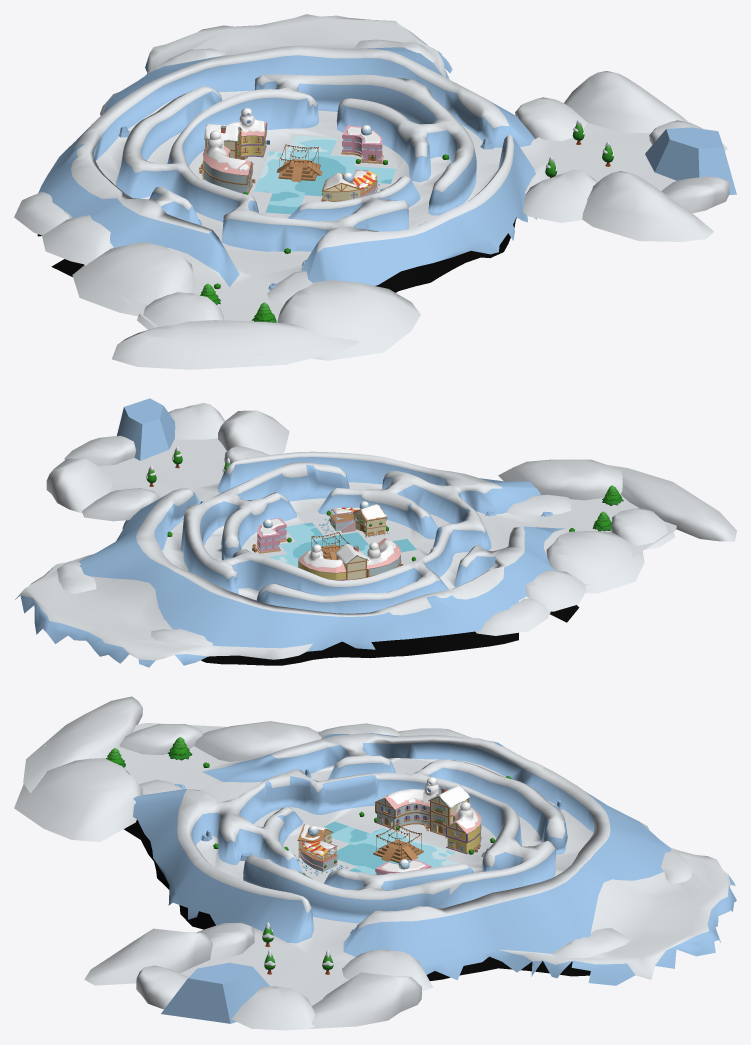
The model's file is Individual_NothingHappeningHereSquare_02.fbx.
3 renders of one model, top to bottom at view 1: azimuth 30°, elevation 25°; view 2: azimuth 150°, elevation 25°; view 3: azimuth 270°, elevation 25°, orthographic. The views are drawn at different scales.
Visible parts, largest first — view 1: polySurface1, pasted__SnowPatch13, pasted__SnowPatch14, pasted__SnowPatch12, pasted__SnowPatch16, pasted__SnowPatch8, pasted__Object_IceRock3, pasted__SnowPatch9, pasted__SnowPatch3, pasted__SnowPatch11, pasted__SnowPatch10, polySurface3 (+11 smaller); view 2: polySurface1, pasted__SnowPatch12, pasted__SnowPatch13, polySurface3, pasted__SnowPatch14, pasted__SnowPatch8, pasted__Object_IceRock3, pasted__SnowPatch16, pasted__SnowPatch3, pasted__SnowPatch11, pasted__SnowPatch10, pasted__SnowPatch4 (+11 smaller); view 3: polySurface1, pasted__SnowPatch14, pasted__SnowPatch13, pasted__SnowPatch8, pasted__SnowPatch16, pasted__Object_IceRock3, pasted__SnowPatch12, pasted__SnowPatch15, polySurface3, pasted__Building_Lounge, pasted__SnowPatch10, pasted__SnowPatch11 (+9 smaller).
Boxes of the visible parts, x1,y1,x2,y2 form: polySurface1: [38, 14, 676, 354]; pasted__SnowPatch13: [112, 320, 360, 369]; pasted__SnowPatch14: [277, 280, 420, 360]; pasted__SnowPatch12: [72, 242, 195, 316]; pasted__SnowPatch16: [582, 171, 713, 241]; pasted__SnowPatch8: [564, 71, 688, 133]; pasted__Object_IceRock3: [645, 127, 736, 194]; pasted__SnowPatch9: [523, 170, 597, 222]; pasted__SnowPatch3: [42, 215, 113, 263]; pasted__SnowPatch11: [137, 292, 223, 329]; pasted__SnowPatch10: [515, 97, 587, 140]; polySurface3: [37, 217, 516, 292]; polySurface1: [15, 438, 677, 667]; pasted__SnowPatch12: [546, 530, 644, 593]; pasted__SnowPatch13: [609, 465, 736, 541]; polySurface3: [201, 605, 579, 665]; pasted__SnowPatch14: [498, 459, 623, 500]; pasted__SnowPatch8: [46, 458, 113, 513]; pasted__Object_IceRock3: [117, 398, 175, 460]; pasted__SnowPatch16: [218, 410, 289, 454]; pasted__SnowPatch3: [525, 570, 585, 611]; pasted__SnowPatch11: [611, 508, 675, 549]; pasted__SnowPatch10: [82, 488, 159, 521]; pasted__SnowPatch4: [475, 598, 550, 635]; polySurface1: [44, 723, 736, 1005]; pasted__SnowPatch14: [14, 758, 142, 841]; pasted__SnowPatch13: [23, 696, 142, 793]; pasted__SnowPatch8: [309, 972, 422, 1028]; pasted__SnowPatch16: [84, 928, 212, 985]; pasted__Object_IceRock3: [161, 962, 270, 1023]; pasted__SnowPatch12: [194, 721, 321, 761]; pasted__SnowPatch15: [231, 986, 315, 1030]; polySurface3: [124, 819, 590, 980]; pasted__Building_Lounge: [297, 785, 470, 871]; pasted__SnowPatch10: [342, 949, 432, 991]; pasted__SnowPatch11: [119, 724, 202, 754].
Bounding box in the file's own units: 15353 × 1536 × 14381.
